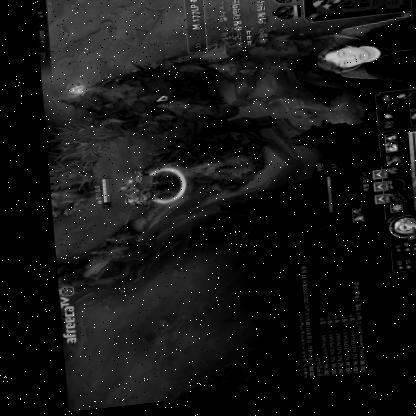streamer: (313, 28, 416, 105)
